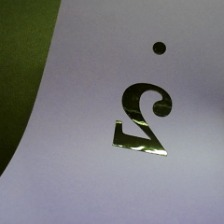violet2: (101, 35, 181, 158)
